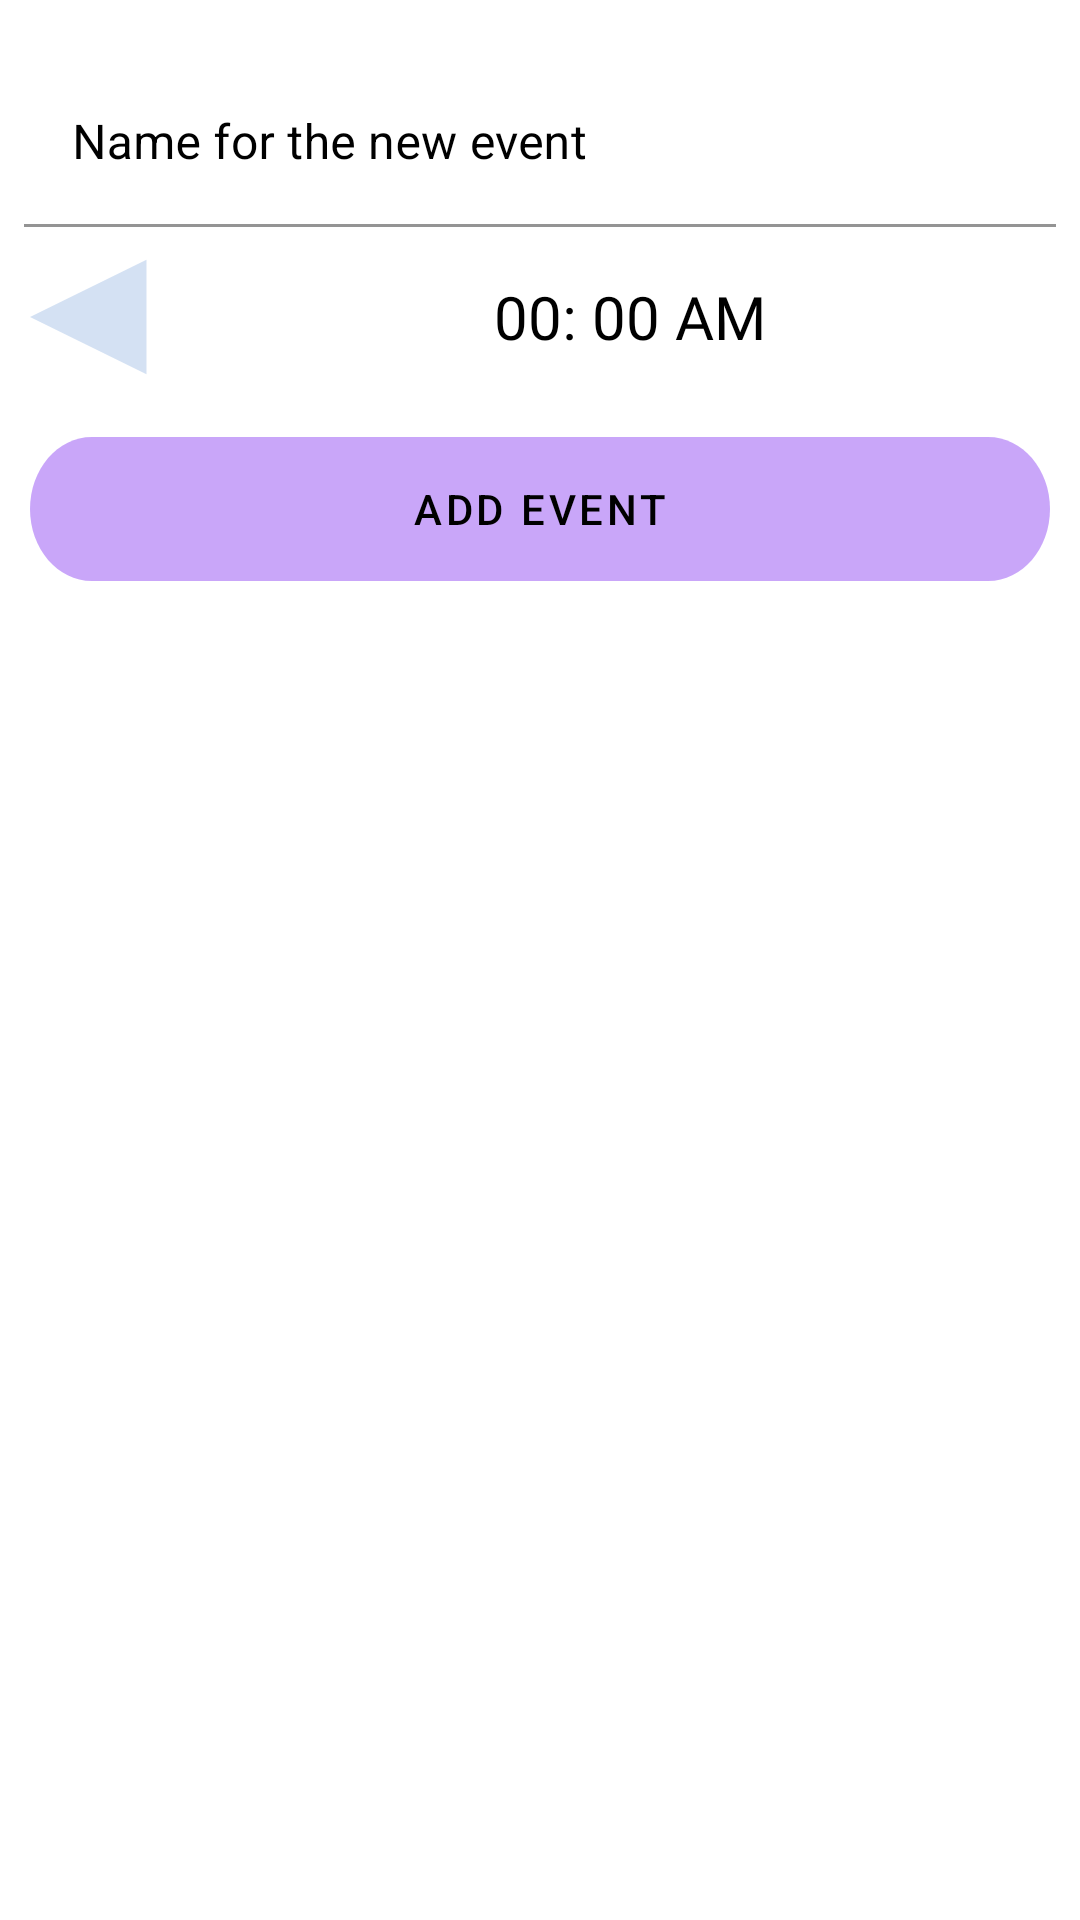

Screen size 1080px x 1920px. Icon name, then its box in pixels as {"x1": x1, "y1": y1, "x2": x2, "y2": y2}:
left triangle back press: {"x1": 31, "y1": 260, "x2": 146, "y2": 374}
